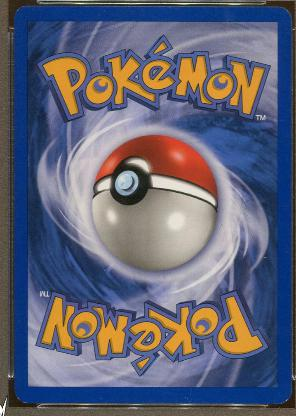Card: (12, 3, 294, 408)
Corner Wear: (269, 396, 288, 406), (17, 396, 31, 404), (14, 8, 19, 12)
